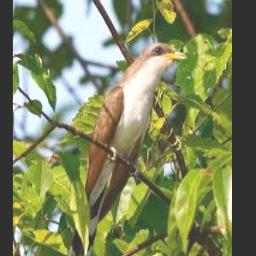Cuckoo: (63, 42, 187, 256)
